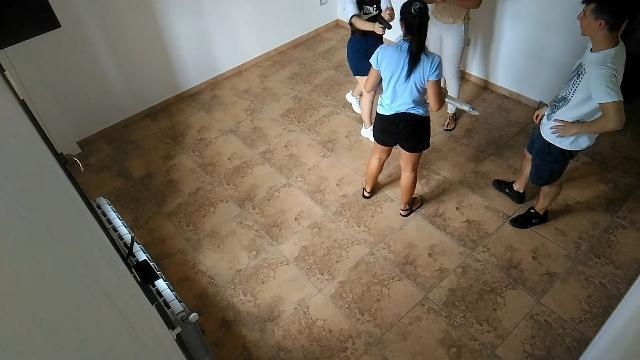non-violence: (492, 1, 630, 226), (428, 1, 482, 132)
violence: (343, 1, 443, 216)
weapon: (376, 14, 392, 32)
